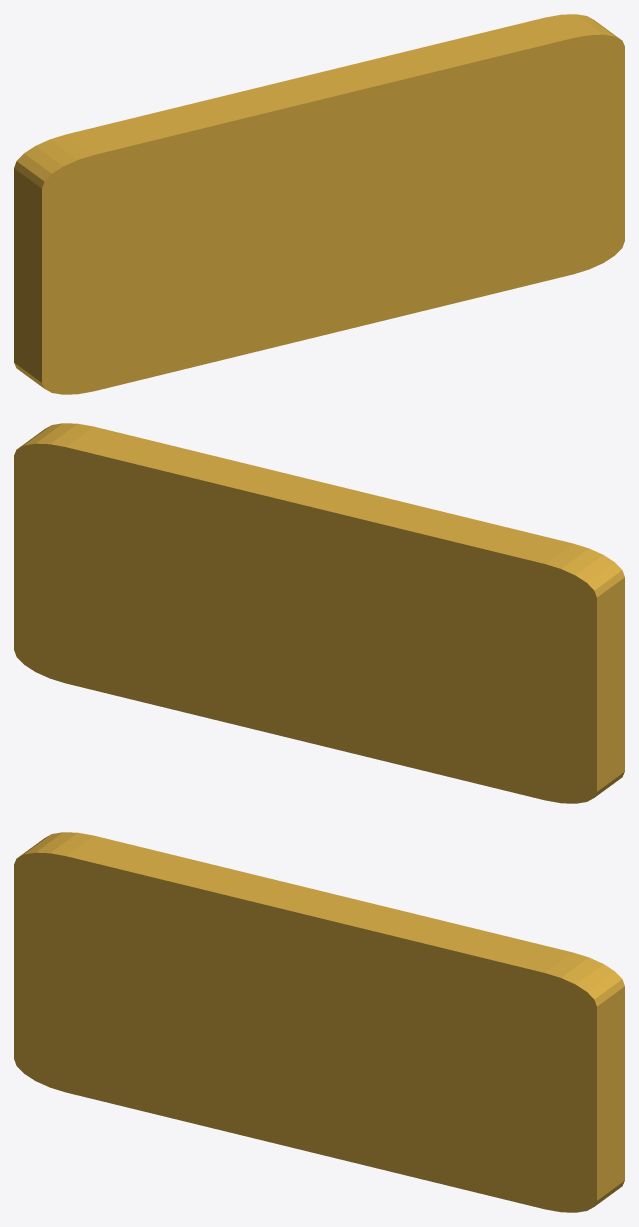
The model's file is BUS_front.fbx.
3 renders of one model, top to bottom at view 1: azimuth 30°, elevation 25°; view 2: azimuth 150°, elevation 25°; view 3: azimuth 330°, elevation 25°, orthographic.
Parts seen in each view (by area): view 1: BUS_front; view 2: BUS_front; view 3: BUS_front.
Part boxes in pixels (x1,y1,x2,y2): BUS_front: (14,14,624,394); BUS_front: (14,423,624,803); BUS_front: (14,832,624,1212).
Bounding box in the file's own units: 35.24 × 13.65 × 2.94.
